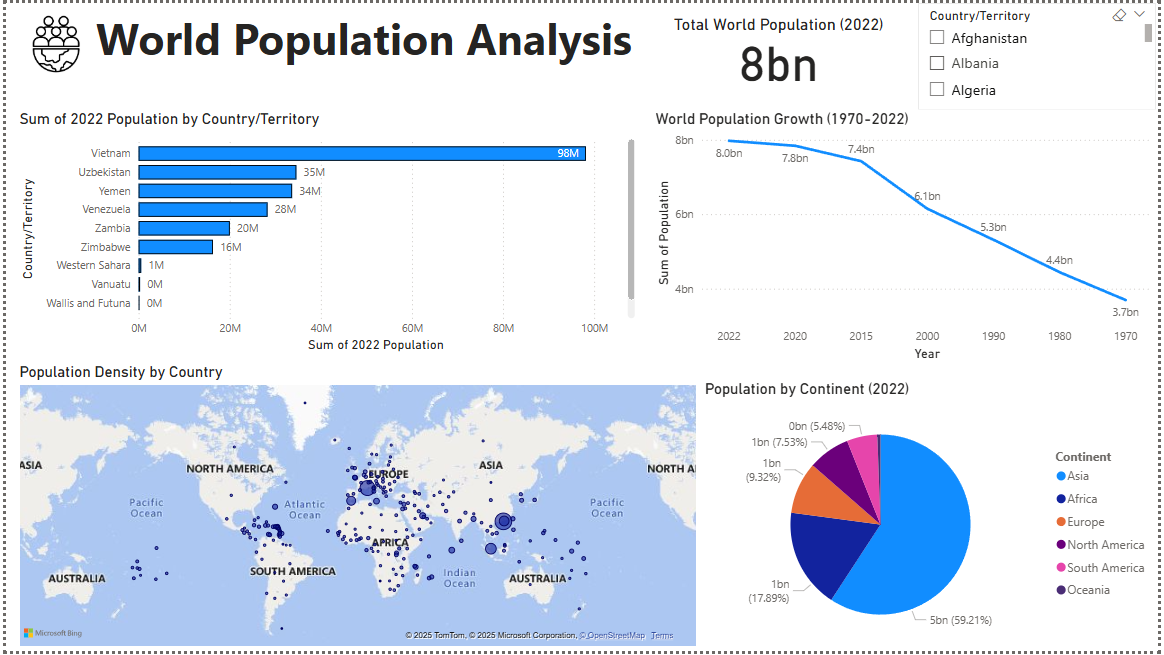

The page's visual inventory and layout, read from the dashboard file:
{"tool":"powerbi","page":{"name":"Dashboard","canvas":[1280,720],"ordinal":6},"visuals":[{"type":"image","box":[0,0,111.5,90.7],"z":0},{"type":"slicer","fields":{"Values":["world_population (2).Country/Territory"]},"box":[1013.3,0,265,118.3],"z":2000},{"type":"card","title":"Total World Population (2022)","fields":{"Values":["Sum(world_population.2022 Population)"]},"box":[718.1,13.2,279.7,94.5],"z":3000},{"type":"map","title":"Population Density by Country","fields":{"Category":["world_population.Country/Territory"],"Size":["Sum(world_population.Density (per km²))"]},"box":[9.4,400.6,761.6,319.4],"z":4000},{"type":"pieChart","title":"Population by Continent (2022)","fields":{"Category":["world_population.Continent"],"Y":["Sum(world_population.2022 Population)"]},"box":[771,417.6,508.4,302.4],"z":5000},{"type":"barChart","fields":{"Y":["Sum(world_population.2022 Population)"],"Category":["world_population.Country/Territory"]},"box":[9.5,117.7,693.5,273.6],"z":6000},{"type":"lineChart","title":"World Population Growth (1970-2022)","fields":{"Category":["world_population (2).Year"],"Y":["Sum(world_population (2).Population)"]},"box":[717.4,117.7,561.5,283.1],"z":7000},{"type":"textbox","box":[94.5,0,623.6,107.7],"z":8000}]}

Visuals, with their boxes in screenshot pixels (x1, y1, x2, y2), scaled from the page's 1280x720 canvas onto the 1164x655 screenshot:
image: [0, 0, 101, 83]
slicer - world_population (2).Country/Territory: [921, 0, 1162, 108]
"Total World Population (2022)" card: [653, 12, 907, 98]
"Population Density by Country" map: [9, 364, 701, 654]
"Population by Continent (2022)" pieChart: [701, 380, 1163, 654]
barChart - Sum(world_population.2022 Population) x world_population.Country/Territory: [9, 107, 639, 356]
"World Population Growth (1970-2022)" lineChart: [652, 107, 1163, 365]
textbox: [86, 0, 653, 98]
